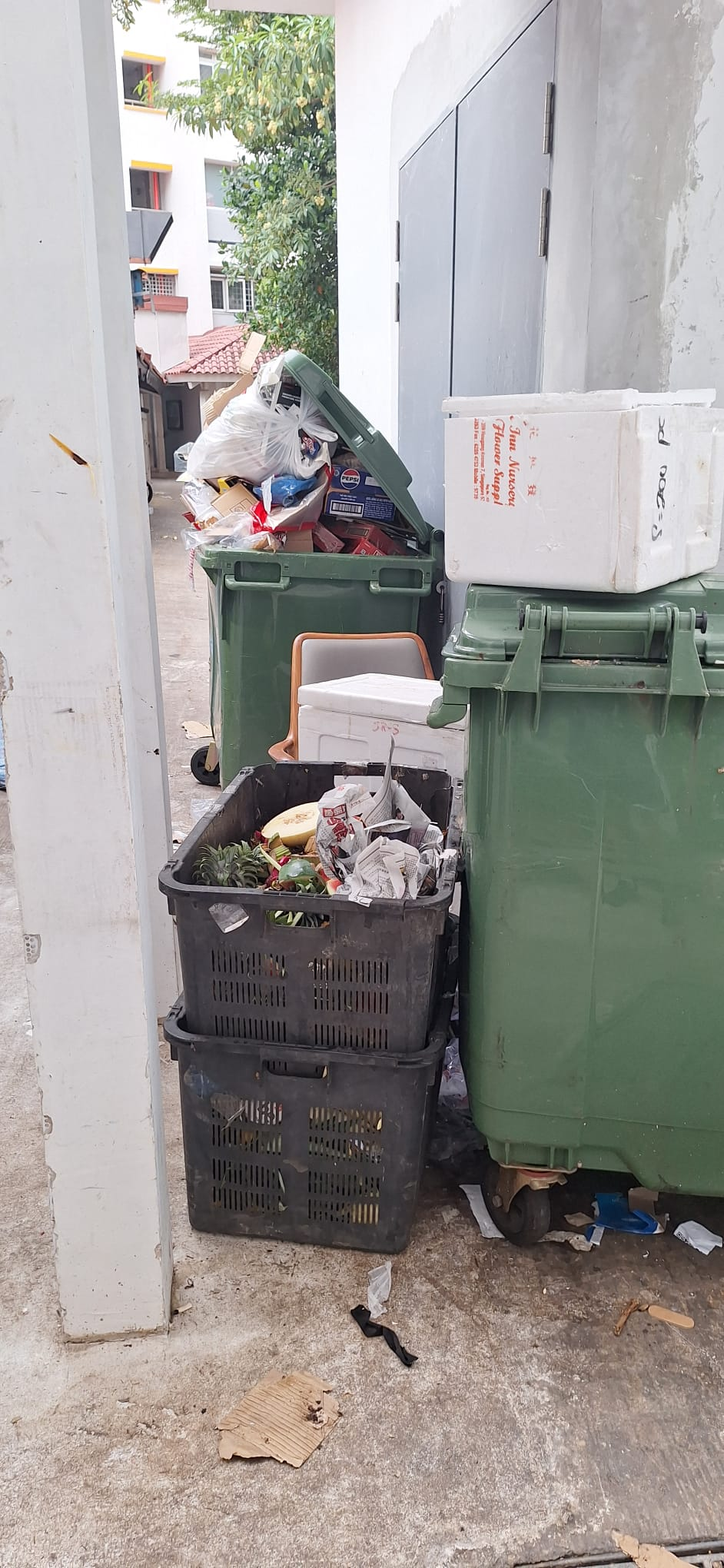bin_empty: (435, 575, 723, 1198)
bin_full: (181, 351, 443, 786)
bulk_waste: (165, 923, 456, 1253), (160, 763, 461, 1055), (443, 388, 723, 596), (297, 673, 466, 776)
